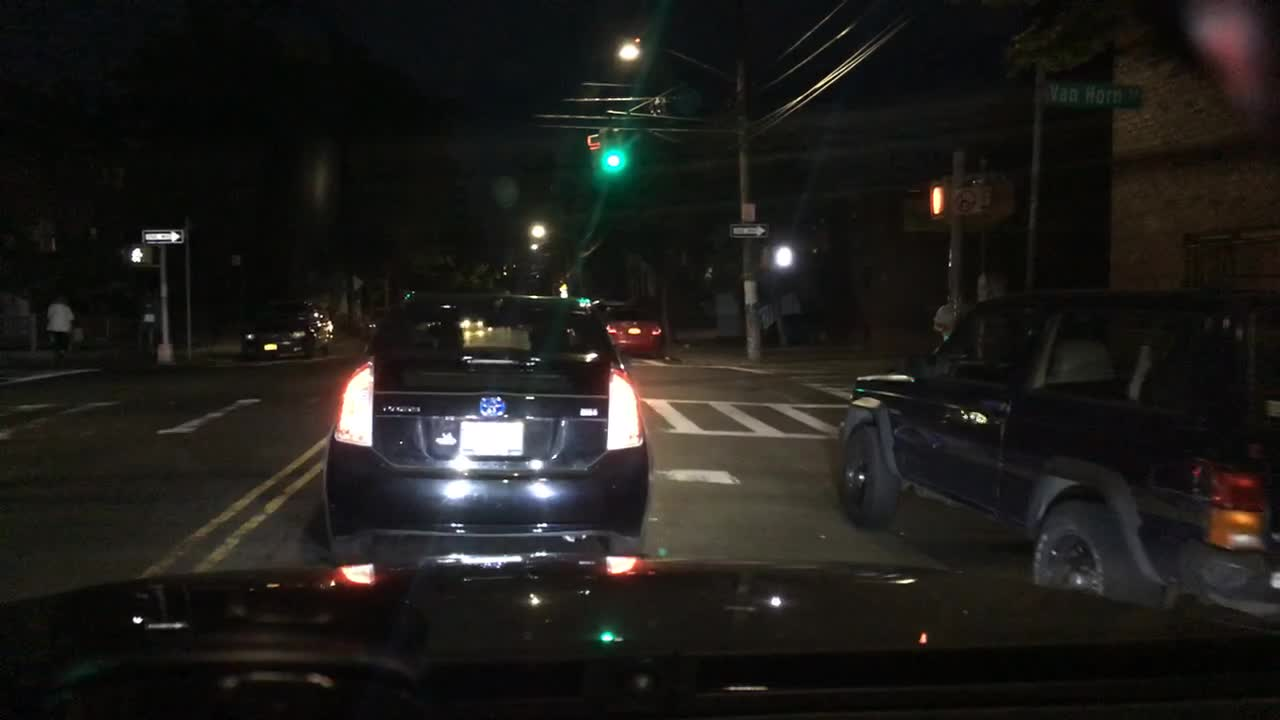bike: (41, 316, 75, 370)
car: (838, 284, 1279, 629), (322, 284, 655, 565), (242, 301, 334, 362), (596, 298, 662, 358)
person: (934, 294, 970, 347)
rider: (46, 294, 75, 361)
traffic light: (582, 133, 605, 178), (605, 131, 622, 170), (930, 185, 947, 222), (771, 244, 793, 270), (124, 243, 147, 263)
traffic sign: (962, 171, 1019, 228), (1049, 80, 1146, 110), (958, 190, 983, 220), (144, 231, 185, 244), (731, 224, 767, 237)
